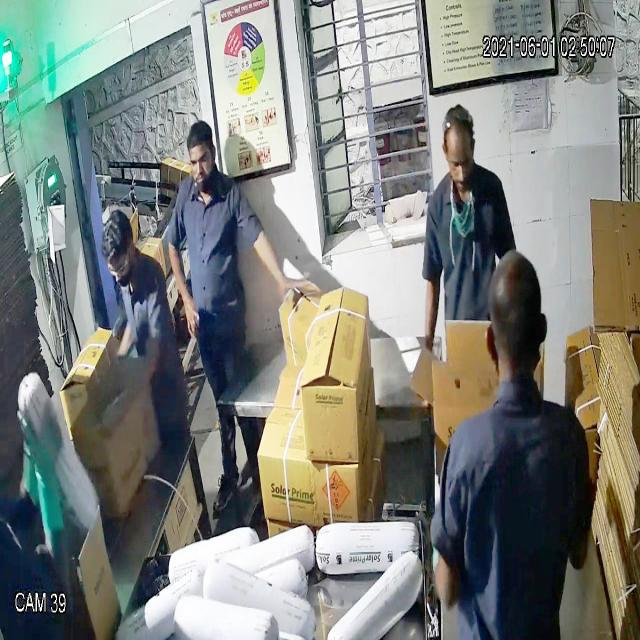glasses: (102, 252, 130, 284)
no-glass: (438, 143, 476, 181), (184, 147, 222, 176)
